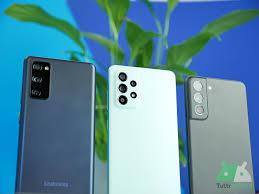Smartphone: (24, 54, 98, 194)
